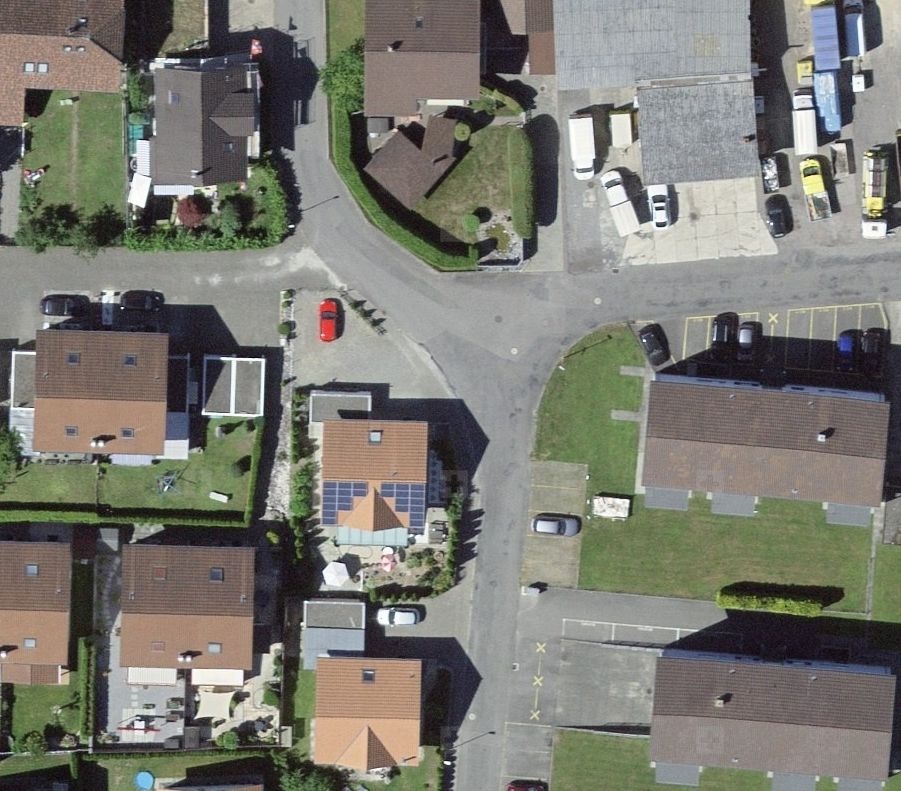solar: (319, 479, 427, 530)
